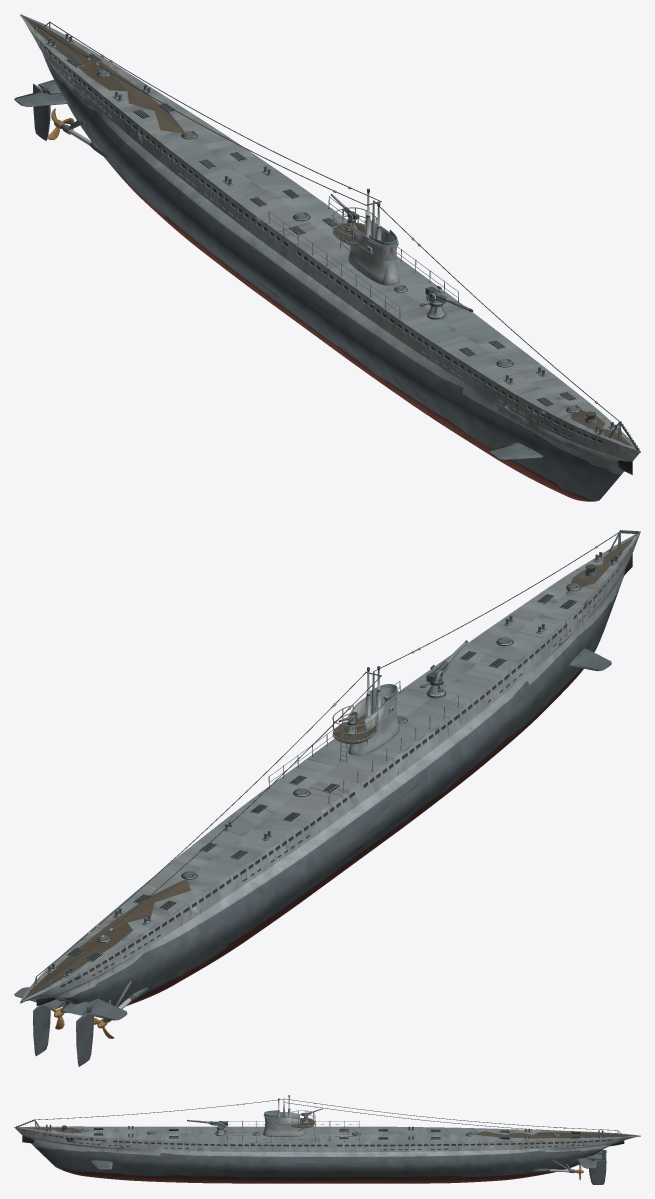
File: uboat-ixc.glb
The picture shows the model from 3 angles, top to bottom: view 1: azimuth 30°, elevation 25°; view 2: azimuth 150°, elevation 25°; view 3: azimuth 270°, elevation 25°; orthographic projection. The views are drawn at different scales.
Visible parts, largest first — view 1: deck_casing, hull, jumping_wire, Deck hatches and mooring gear, Deck ventilation grilles, Pressure body under casing, conning_tower, bridge, Deck guardrails, deck_gun; view 2: deck_casing, hull, jumping_wire, rudders, Deck hatches and mooring gear, Deck ventilation grilles, Pressure body under casing, bridge, conning_tower, After gun gallery, Deck guardrails; view 3: hull, deck_casing, Pressure body under casing, jumping_wire, conning_tower, Deck hatches and mooring gear, bridge, Deck guardrails, Deck ventilation grilles, rudders, After gun gallery, deck_gun (+3 smaller).
Part boxes in pixels (bbox=[...]): deck_casing: bbox=[20, 14, 640, 461]; hull: bbox=[38, 46, 631, 501]; jumping_wire: bbox=[34, 21, 619, 421]; Deck hatches and mooring gear: bbox=[46, 33, 618, 435]; Deck ventilation grilles: bbox=[66, 53, 576, 406]; Pressure body under casing: bbox=[40, 42, 632, 474]; conning_tower: bbox=[348, 244, 399, 285]; bridge: bbox=[349, 220, 398, 260]; Deck guardrails: bbox=[268, 196, 459, 318]; deck_gun: bbox=[419, 286, 473, 319]; deck_casing: bbox=[20, 531, 640, 1003]; hull: bbox=[46, 555, 631, 1006]; jumping_wire: bbox=[33, 531, 619, 989]; rudders: bbox=[33, 1005, 93, 1066]; Deck hatches and mooring gear: bbox=[46, 552, 619, 977]; Deck ventilation grilles: bbox=[67, 593, 577, 961]; Pressure body under casing: bbox=[36, 554, 632, 1005]; bridge: bbox=[350, 684, 398, 729]; conning_tower: bbox=[348, 707, 399, 756]; After gun gallery: bbox=[332, 705, 378, 744]; Deck guardrails: bbox=[268, 681, 459, 803]; hull: bbox=[23, 1135, 617, 1183]; deck_casing: bbox=[14, 1126, 640, 1152]; Pressure body under casing: bbox=[22, 1133, 624, 1149]; jumping_wire: bbox=[35, 1098, 621, 1136]; conning_tower: bbox=[263, 1123, 304, 1137]; Deck hatches and mooring gear: bbox=[45, 1124, 603, 1139]; bridge: bbox=[263, 1110, 300, 1125]; Deck guardrails: bbox=[227, 1120, 359, 1141]; Deck ventilation grilles: bbox=[93, 1127, 581, 1139]; rudders: bbox=[589, 1150, 606, 1184]; After gun gallery: bbox=[291, 1110, 315, 1131]; deck_gun: bbox=[187, 1119, 227, 1136].
Bounding box in the file's own units: 8.14 × 11.65 × 76.8.
22 materials, 22 textured.
